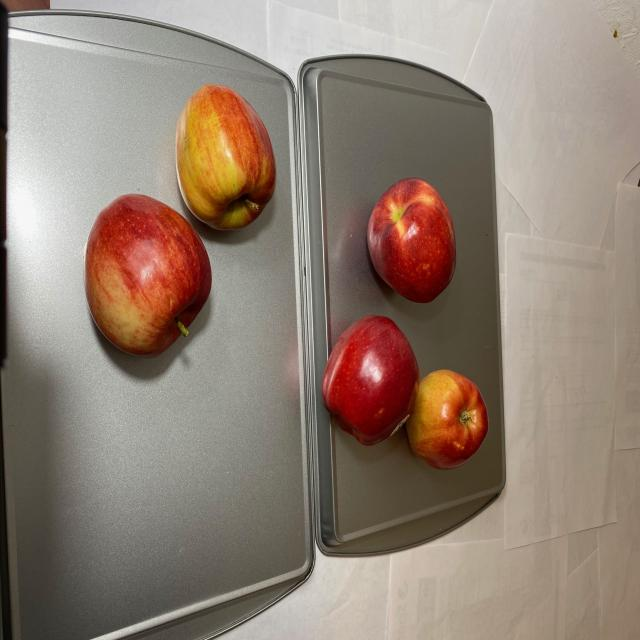apple: (86, 83, 280, 366), (327, 175, 489, 472)
